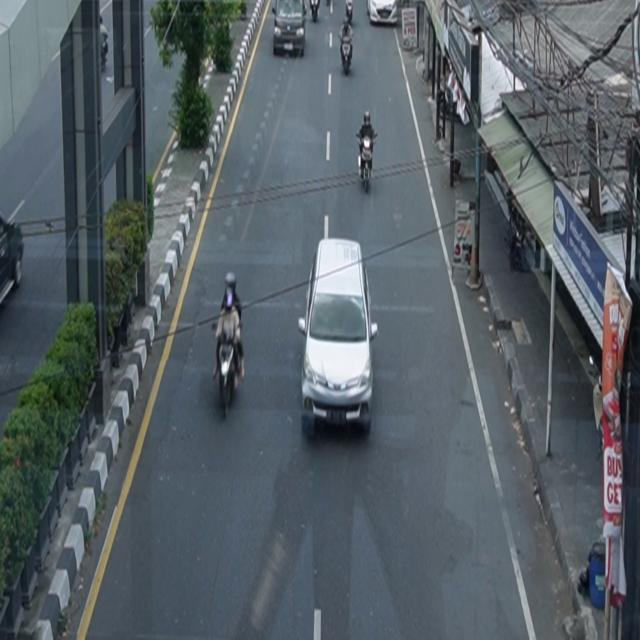car: (299, 238, 379, 436), (1, 214, 25, 308), (272, 1, 308, 58), (367, 1, 398, 26)
